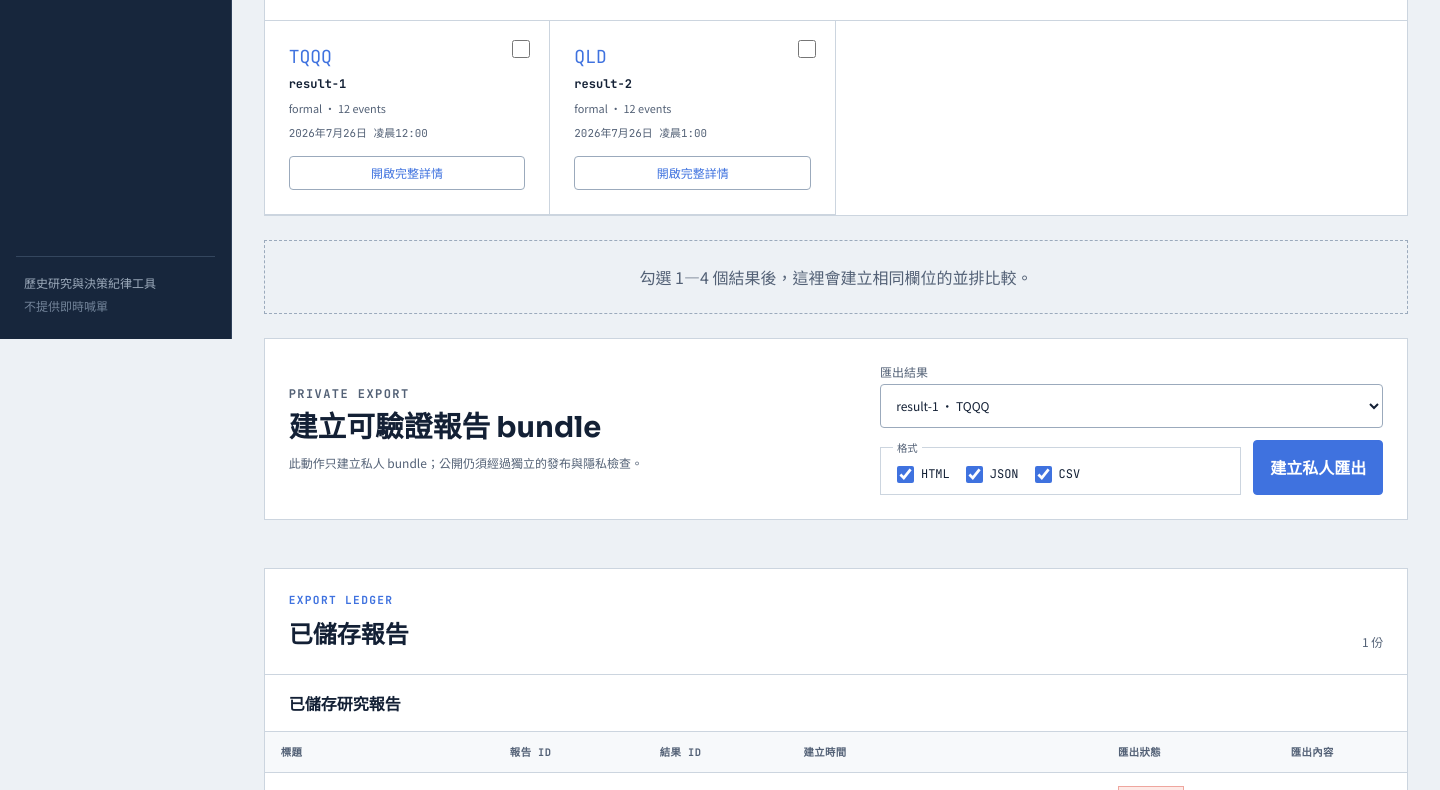
Scenario: report and comparison ledger › exports one trusted result with explicit formats in live mode
(page scrolled)
Select "result-2 · QLD" in the dropdown labelled "匯出結果" at (1132, 406), box [880, 384, 1383, 428]
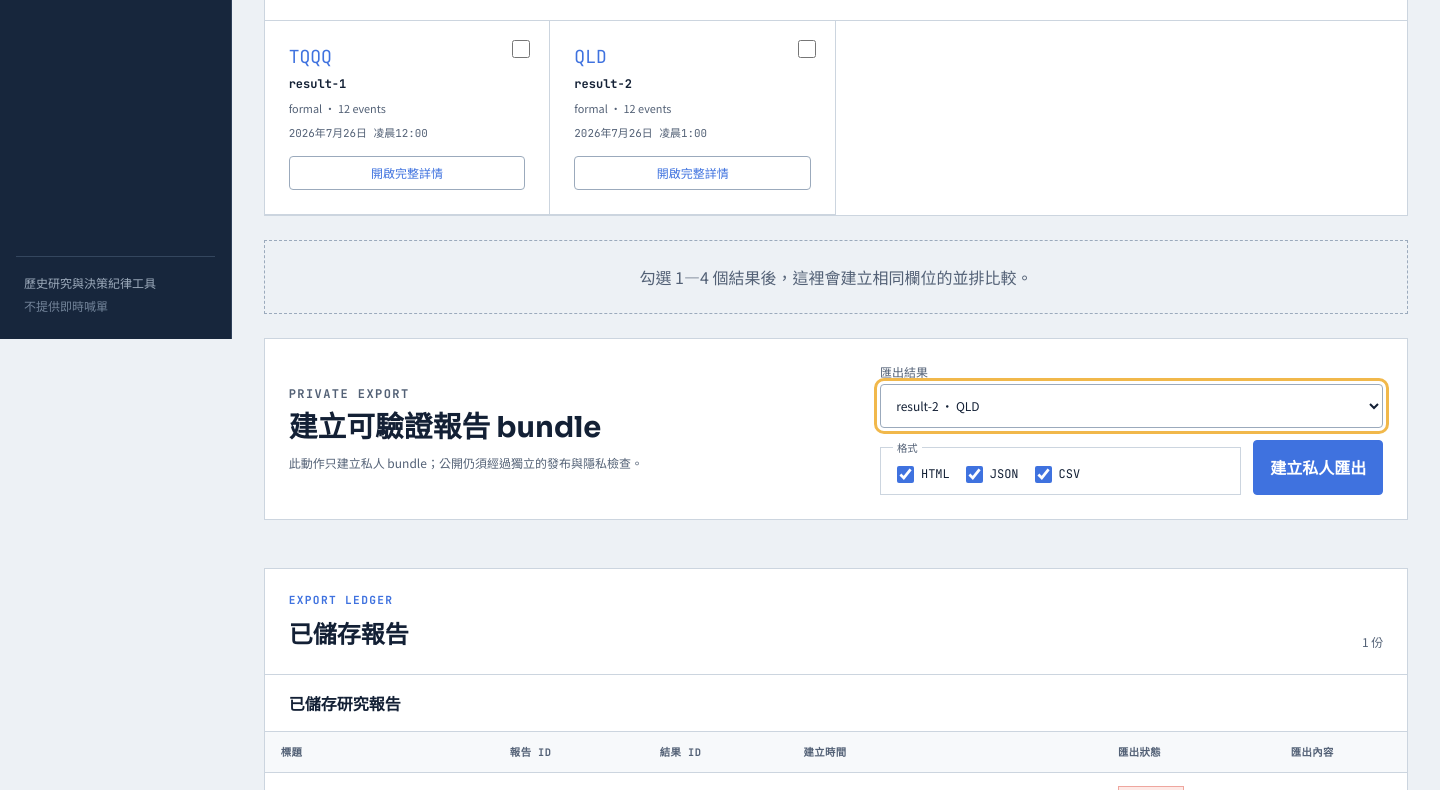
Click the checkbox labelled "CSV" at (1043, 474), box [1035, 466, 1052, 482]
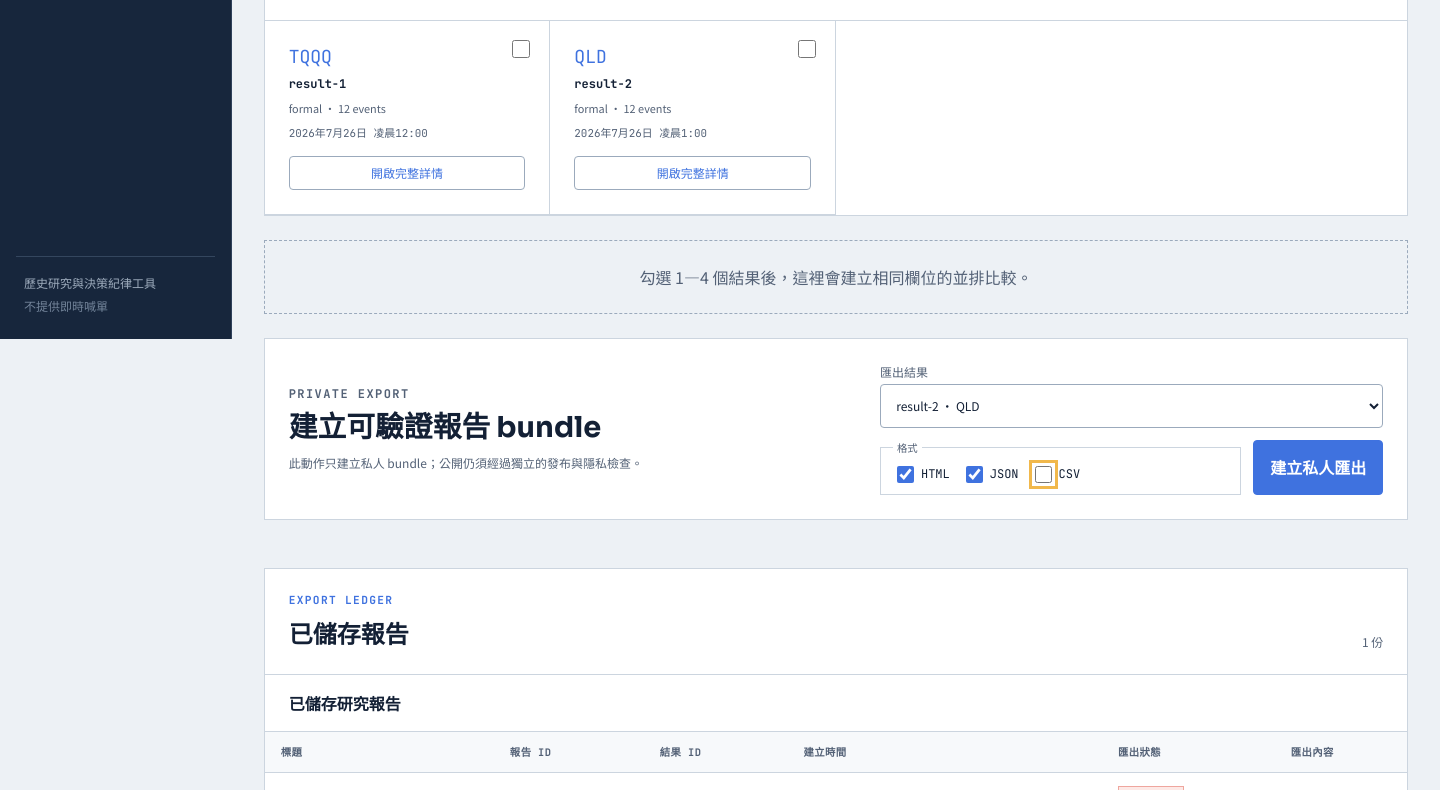
Click the button "建立私人匯出" at (1318, 467), box [1253, 440, 1383, 494]
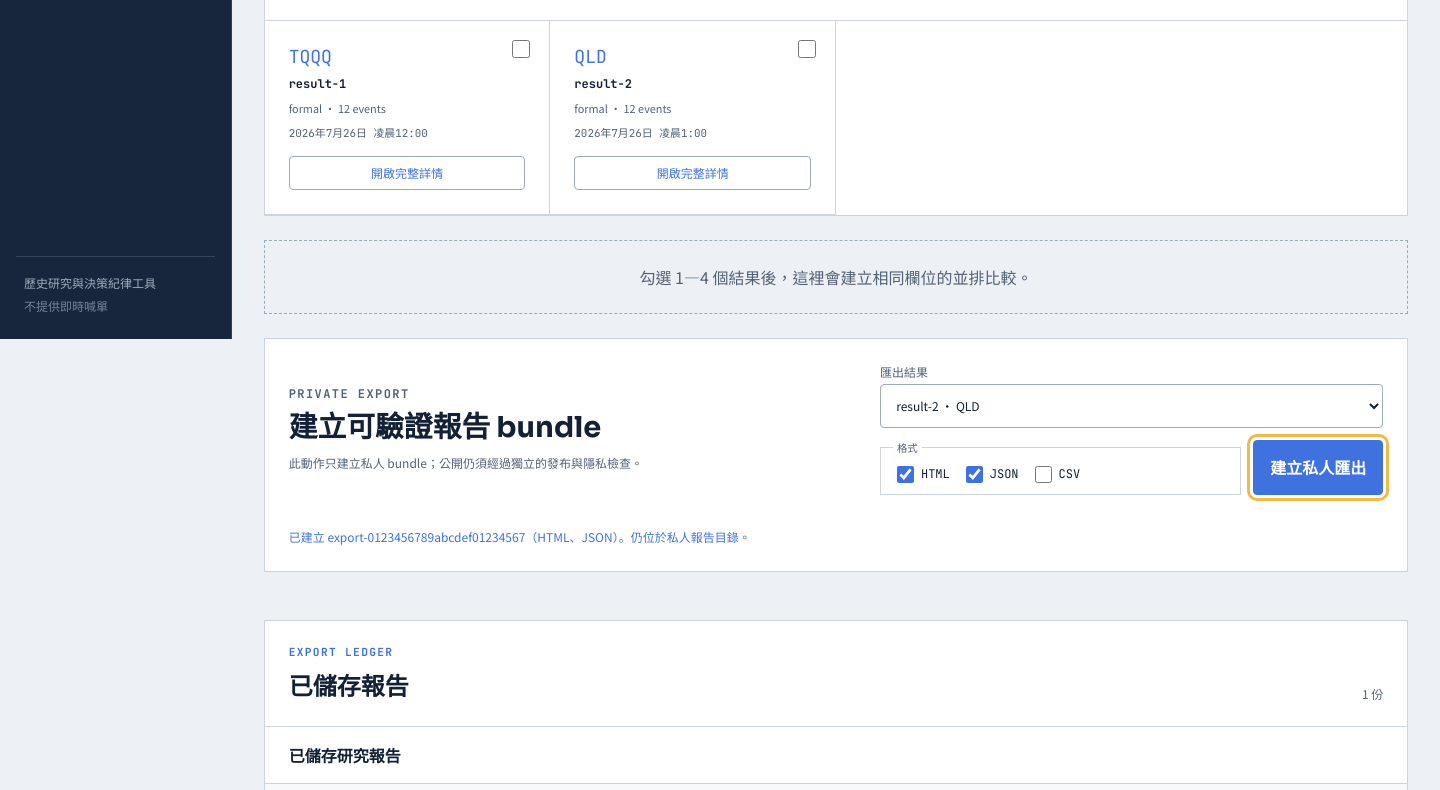
Expected: the text "此動作只建立私人 bundle；公開仍須經過獨立的發布與隱私檢查。" is shown, [289, 454, 643, 471]
Result: the text "已建立 export-0123456789abcdef01234567（HTML、JSON）。仍位於私人報告目錄。" is shown at [289, 528, 751, 544]
